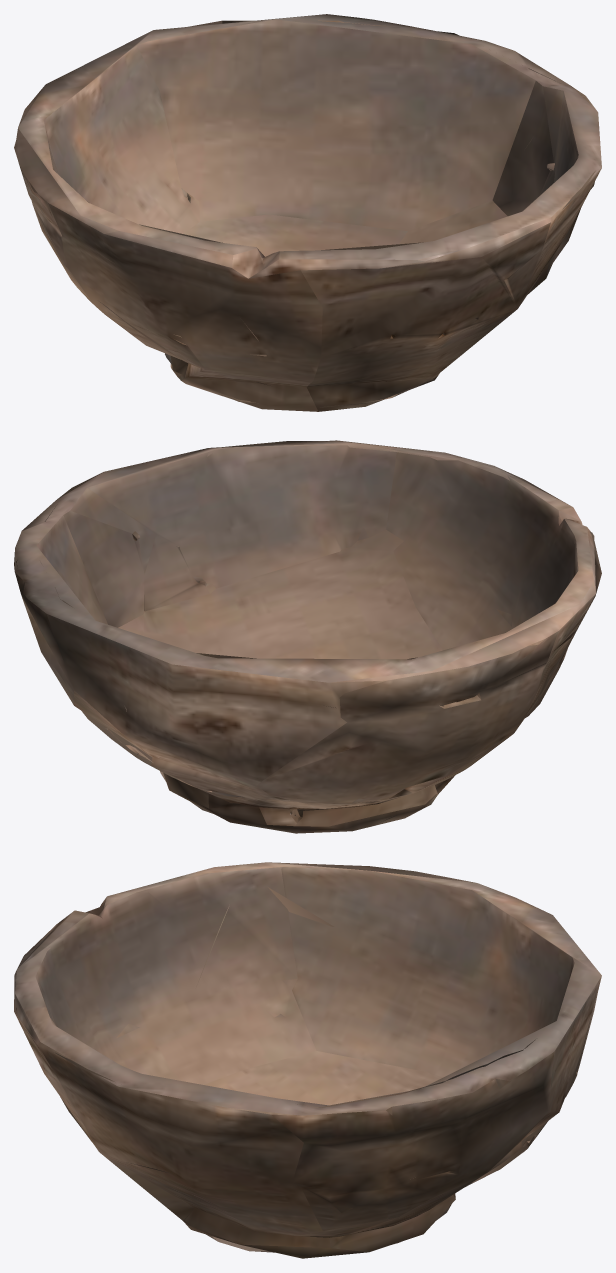
3 renders of one model, top to bottom at view 1: azimuth 30°, elevation 25°; view 2: azimuth 150°, elevation 25°; view 3: azimuth 270°, elevation 25°, orthographic.
Visible parts, largest first — view 1: geometry_0; view 2: geometry_0; view 3: geometry_0.
Boxes of the visible parts, box(x1,y1,x2,y2) form: geometry_0: box(14, 14, 601, 411); geometry_0: box(14, 440, 601, 833); geometry_0: box(14, 862, 601, 1258).
Bounding box in the file's own units: 0.2789 × 0.1161 × 0.2772.
1 material, 1 textured.
